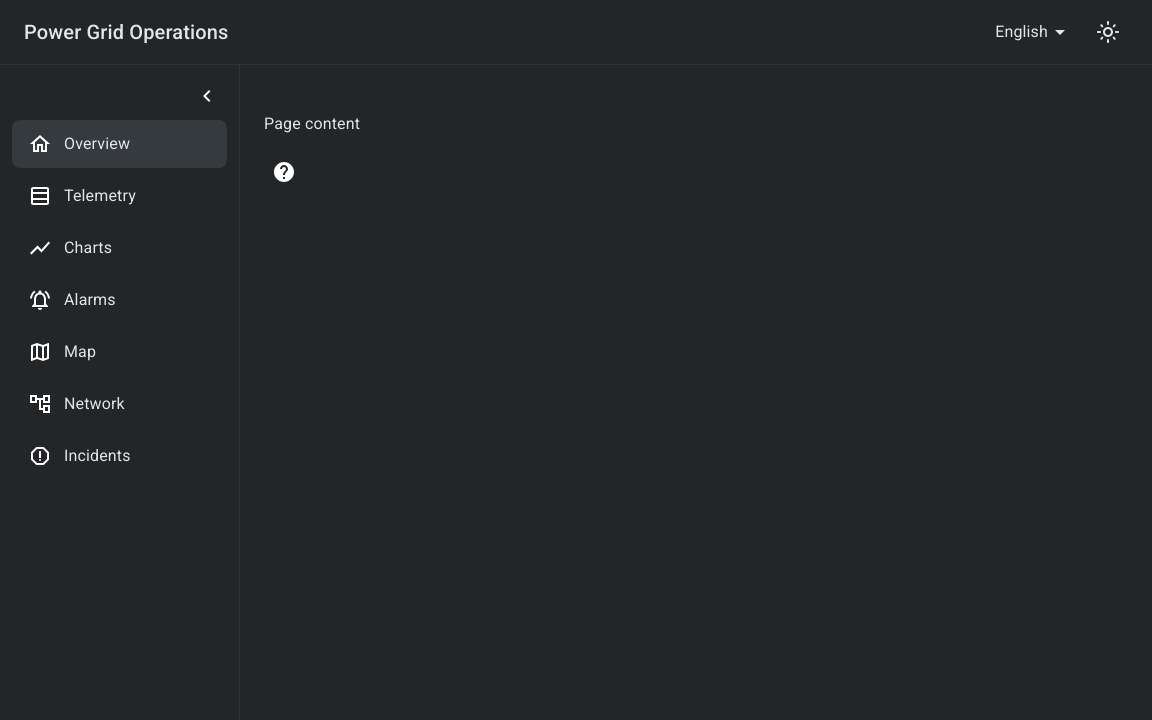
Test case: Layout › switches language, stores it in a cookie and refreshes server components
Click the dropdown named "Language" at (1022, 32), box left=995, top=22, right=1048, bottom=41
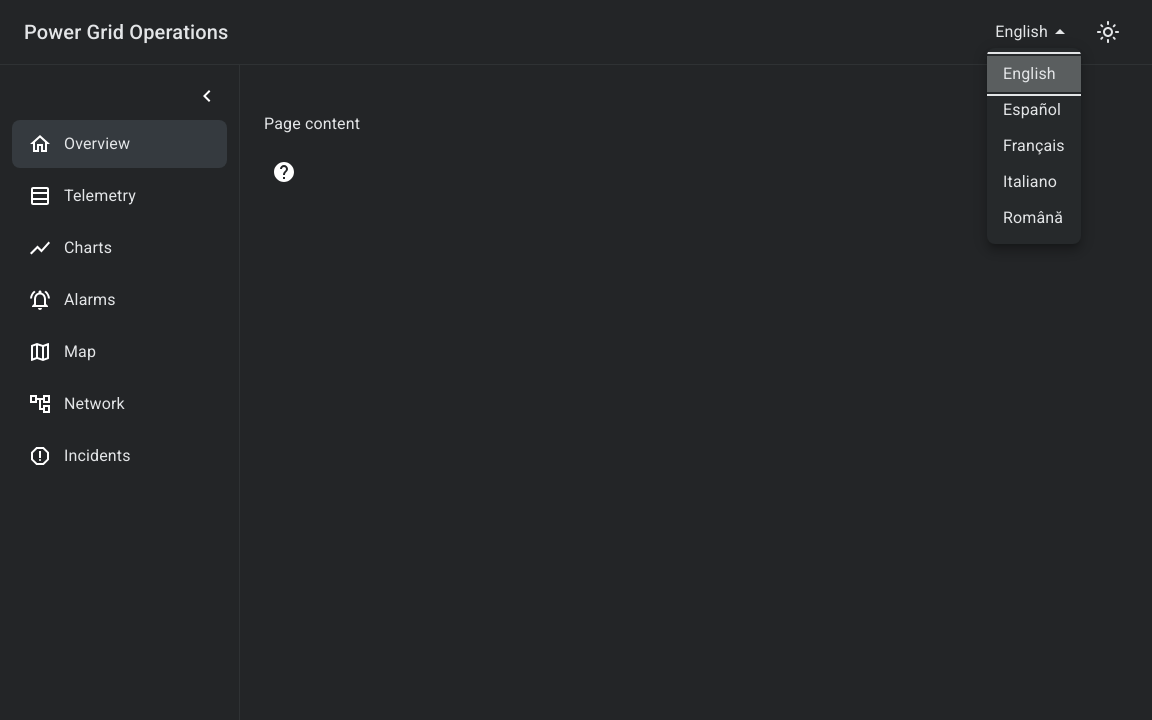
Click the option "Română" at (1033, 218), box left=1003, top=208, right=1063, bottom=227
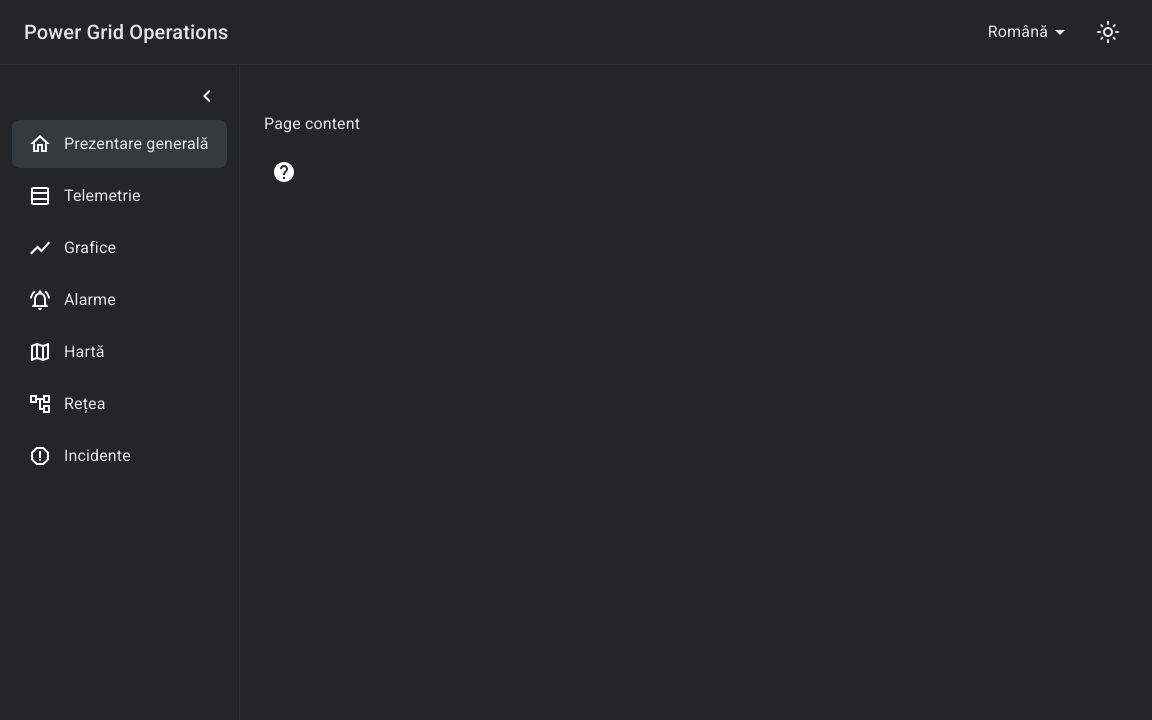
Expected: the dropdown named "Limbă" is shown, left=988, top=22, right=1048, bottom=41
